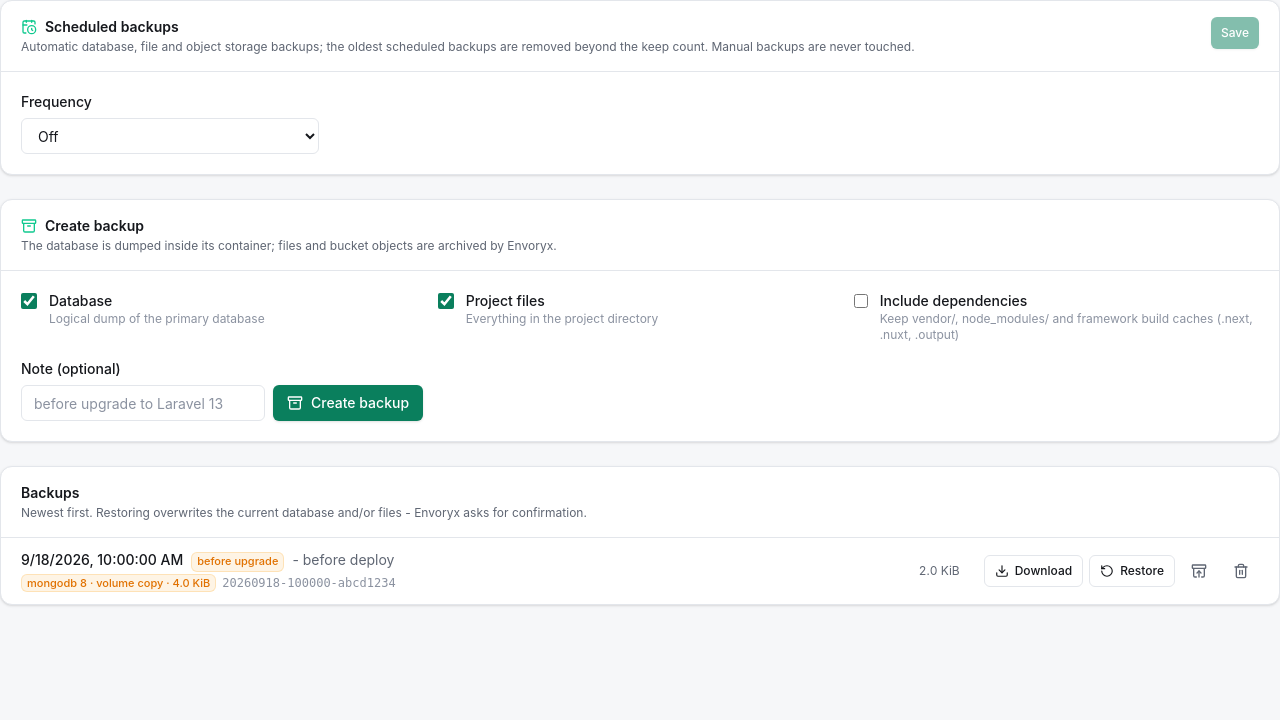
Test: BackupsTab › lists and restores the copy of a data volume taken before an upgrade
expect the text "mongodb 8 · volume copy · 4.0 KiB" is shown: met, box 21,574 -> 216,592
Click the button "Restore". click: (1132, 571)
box: 1089,555 -> 1175,587
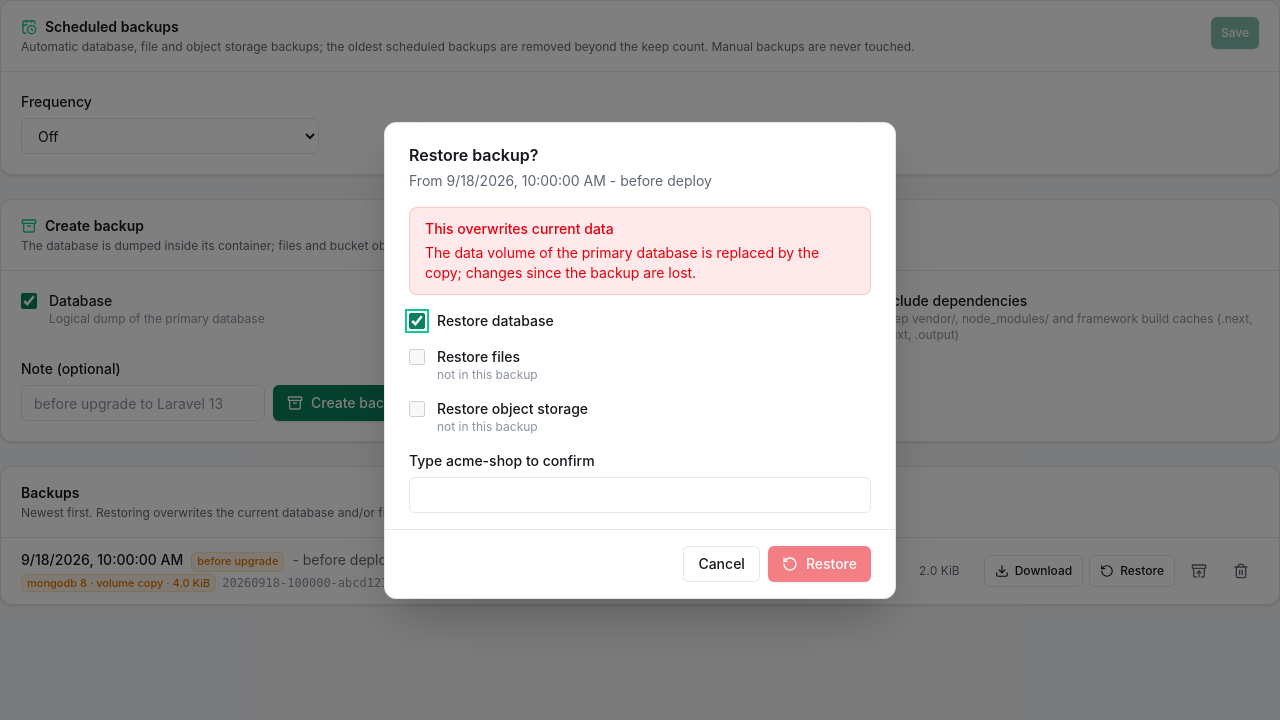
expect the text "The data volume of the primary database is replaced by the copy; changes since the backup are lost." is shown: met, box 425,244 -> 819,280
expect the checkbox labelled "Restore database" is enabled: met, box 409,312 -> 425,328
